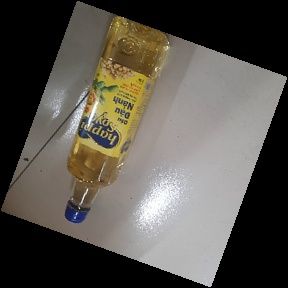Happy Soya: (64, 13, 169, 228)
